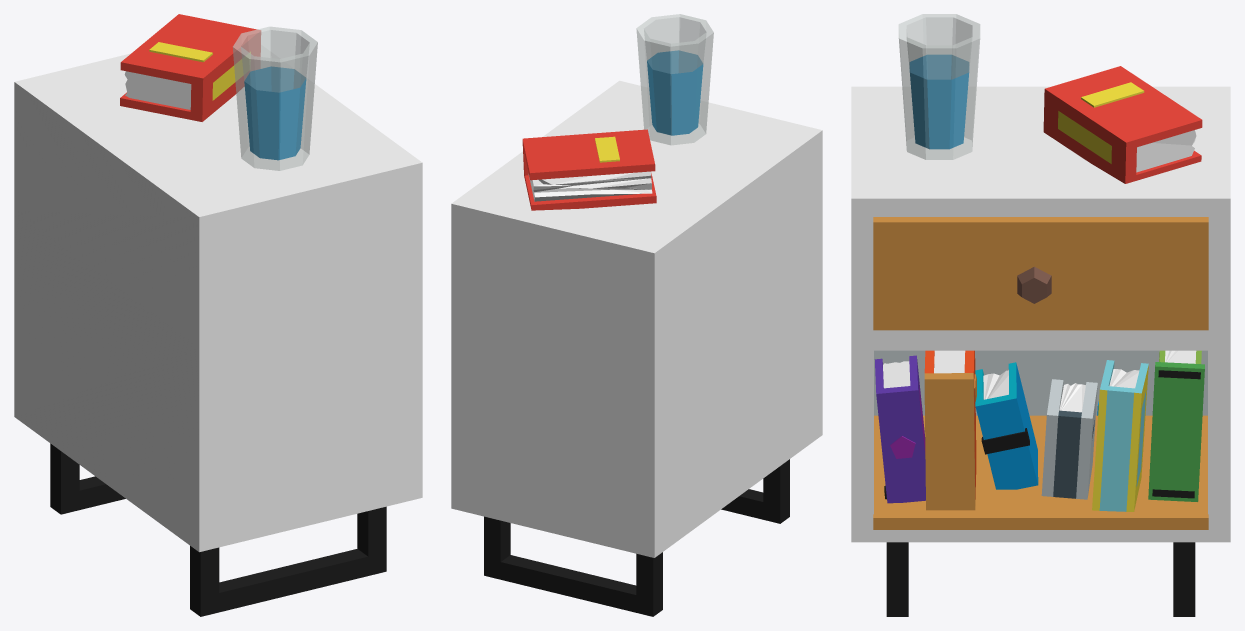
File: BedsideTable.obj
3 views of the same model, side by side, from view 1: azimuth 30°, elevation 25°; view 2: azimuth 150°, elevation 25°; view 3: azimuth 270°, elevation 25° (orthographic). The views are drawn at different scales.
Parts seen in each view (by area): view 1: group1888383277, group69467889, group963747135, group1643316876, group274274577; view 2: group1888383277, group69467889, group963747135, group274274577, group1643316876; view 3: group1888383277, group1013878971, group720230303, group69467889, group963747135, group1555237233, group205743288, group1808129529, group751994868, group846394324, group65416316, group1643316876 (+1 smaller).
Boxes of the visible parts, x1,y1,x2,y2 form: group1888383277: (14,45,422,552); group69467889: (120,14,260,121); group963747135: (233,26,317,170); group1643316876: (190,506,386,616); group274274577: (50,443,125,514); group1888383277: (451,80,822,557); group69467889: (522,129,656,210); group963747135: (636,14,713,145); group274274577: (484,516,662,616); group1643316876: (721,459,789,523); group1888383277: (851,86,1230,542); group1013878971: (873,217,1208,330); group720230303: (873,415,1208,529); group69467889: (1043,66,1202,183); group963747135: (898,14,980,159); group1555237233: (924,350,976,510); group205743288: (1148,350,1204,501); group1808129529: (1092,360,1148,511); group751994868: (874,355,925,503); group846394324: (975,362,1038,489); group65416316: (1041,379,1097,499); group1643316876: (886,542,908,616).
Bounding box in the file's own units: 0.688 × 1.36 × 0.86.
